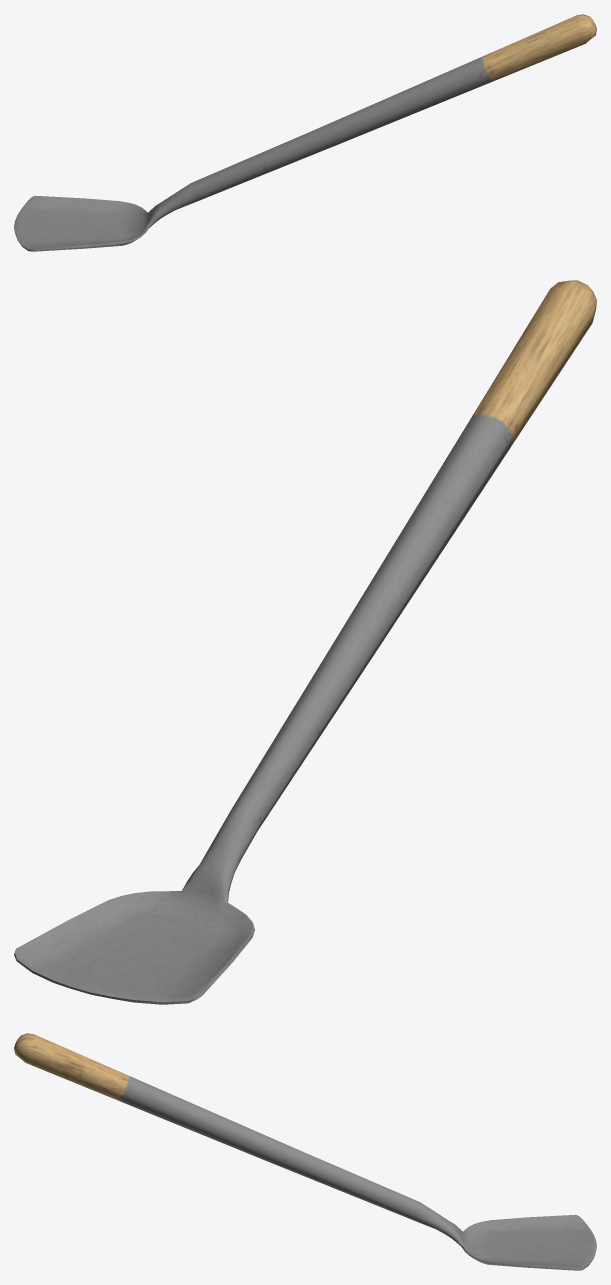
Rendered from M_Spatula_01.FBX.
The picture shows the model from 3 angles, top to bottom: view 1: azimuth 90°, elevation 25°; view 2: azimuth 150°, elevation 25°; view 3: azimuth 270°, elevation 25°; orthographic projection. The views are drawn at different scales.
Visible parts, largest first — view 1: M_Spatula_01; view 2: M_Spatula_01; view 3: M_Spatula_01.
Part boxes in pixels (x1,y1,x2,y2): M_Spatula_01: [14, 14, 596, 251]; M_Spatula_01: [14, 280, 596, 1004]; M_Spatula_01: [14, 1033, 596, 1270].
Size of the model in its own units: 13.75 by 63.07 by 25.48.
